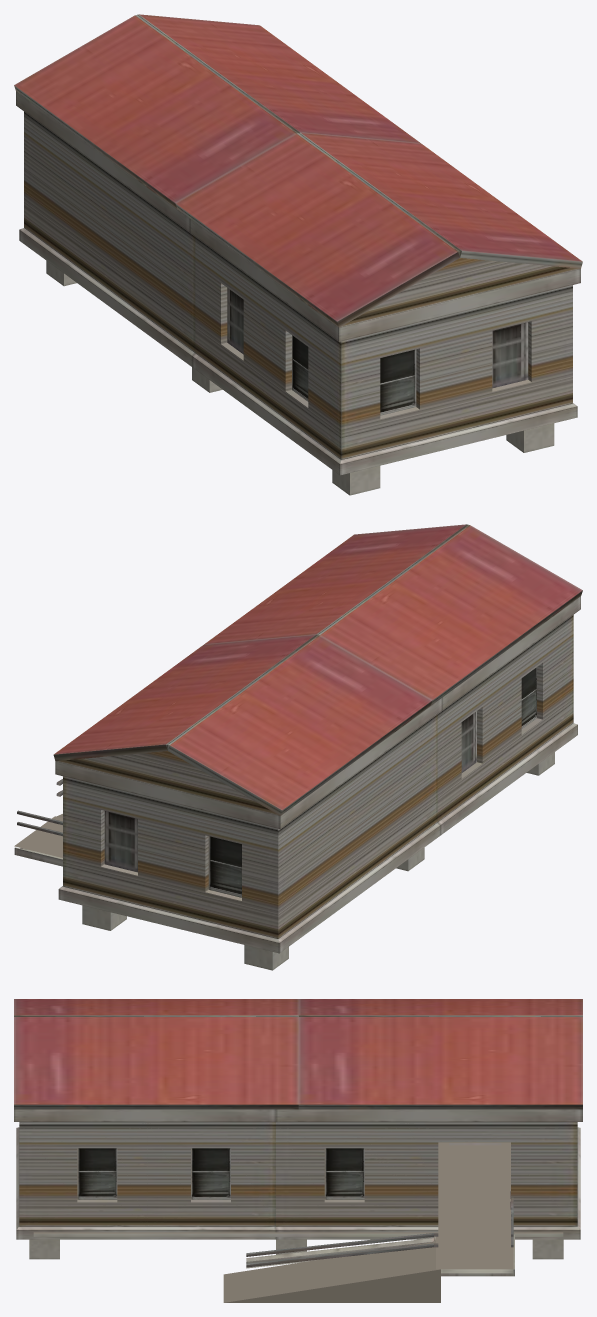
The model's file is rural-mobile-home.access-v2.lod1.glb.
The picture shows the model from 3 angles, top to bottom: view 1: azimuth 30°, elevation 25°; view 2: azimuth 150°, elevation 25°; view 3: azimuth 270°, elevation 25°; orthographic projection. The views are drawn at different scales.
Parts seen in each view (by area): view 1: Rural_UnmobileHome_1_Rural_Trailer_Stuff_1_0, Rural_UnmobileHome_1_Rural_Facade_FLR_2_0; view 2: Rural_UnmobileHome_1_Rural_Trailer_Stuff_1_0, Rural_UnmobileHome_1_Rural_Facade_FLR_2_0, Walkable floors and stairs; view 3: Rural_UnmobileHome_1_Rural_Trailer_Stuff_1_0, Rural_UnmobileHome_1_Rural_Facade_FLR_2_0, Walkable floors and stairs.
Boxes of the visible parts, <box> form: Rural_UnmobileHome_1_Rural_Trailer_Stuff_1_0: <box>14,14,582,459</box>; Rural_UnmobileHome_1_Rural_Facade_FLR_2_0: <box>16,91,580,495</box>; Rural_UnmobileHome_1_Rural_Trailer_Stuff_1_0: <box>53,524,582,938</box>; Rural_UnmobileHome_1_Rural_Facade_FLR_2_0: <box>14,596,580,970</box>; Walkable floors and stairs: <box>14,814,62,857</box>; Rural_UnmobileHome_1_Rural_Trailer_Stuff_1_0: <box>14,999,582,1226</box>; Rural_UnmobileHome_1_Rural_Facade_FLR_2_0: <box>14,1109,582,1276</box>; Walkable floors and stairs: <box>33,1142,563,1302</box>.
Size of the model in its own units: 6.66 by 4.39 by 11.38.
Materials: 3 (2 with a texture image).
